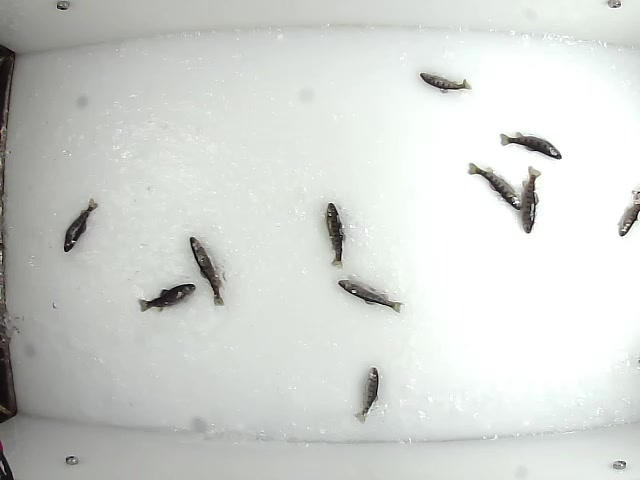fish: (188, 235, 229, 309), (466, 162, 525, 211), (336, 276, 405, 316), (60, 196, 99, 255), (498, 130, 564, 161), (136, 281, 198, 313), (351, 364, 381, 425), (324, 200, 348, 270), (518, 164, 541, 235), (417, 71, 473, 96)
